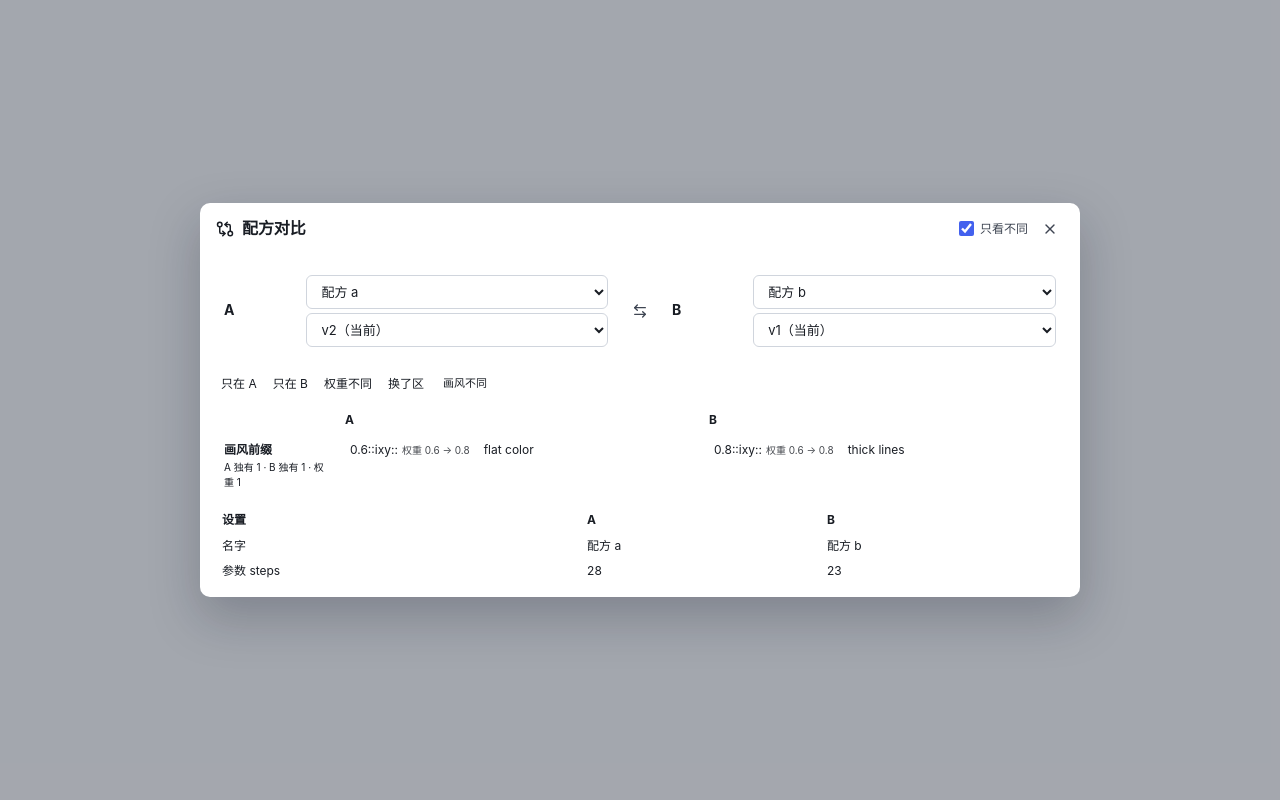
RecipeCompareDialog › compares two recipes tag by tag, swaps sides and picks older versions
Check: the text titled "只在 A" reads "flat color", box [484,442,534,457]
Check: the text titled "只在 B" reads "thick lines", box [848,442,905,457]
Step 1. Click the button named "左右互换" → click(640, 310), box [626,296,654,324]
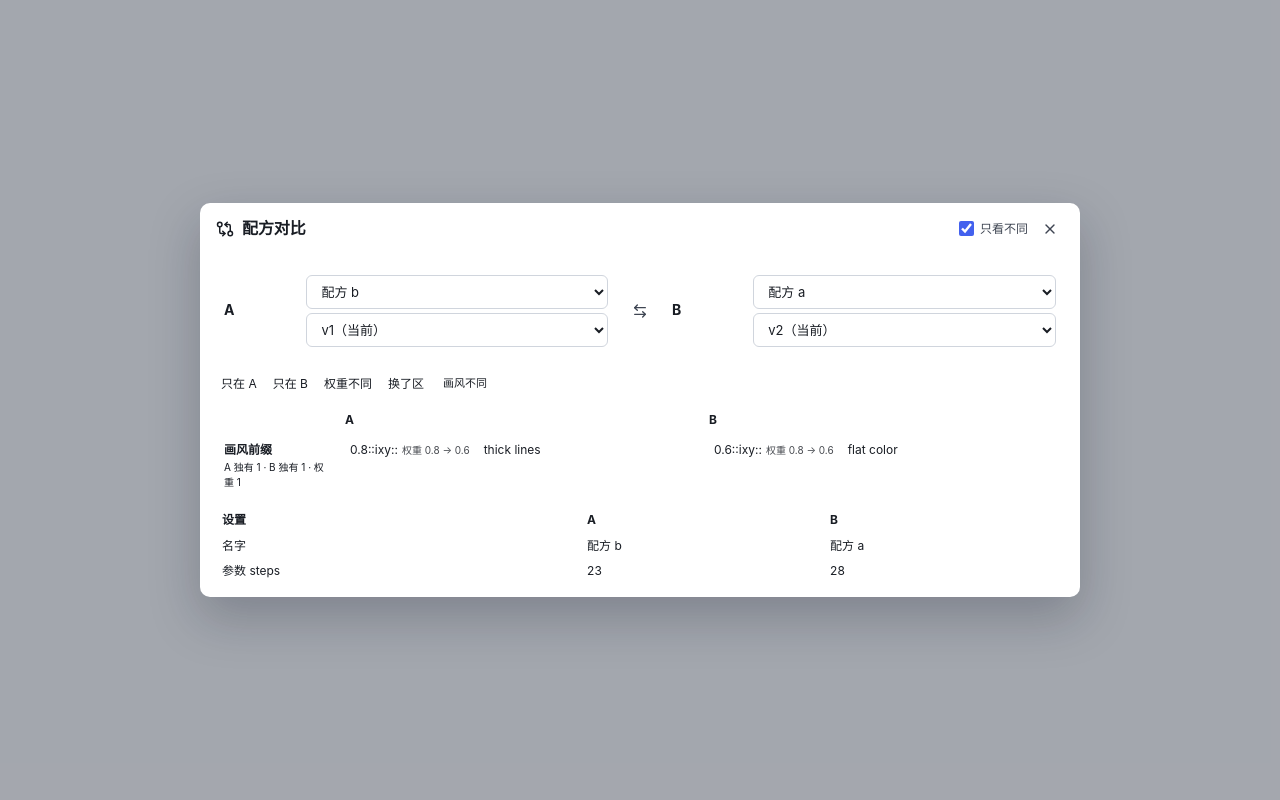
Check: the text titled "只在 A" reads "thick lines", box [484,442,541,457]
B 换成配方 a 的 v1：和当前的 a 比，只差 flat color。
Step 2. Click the button named "左右互换" → click(640, 310), box [626,296,654,324]
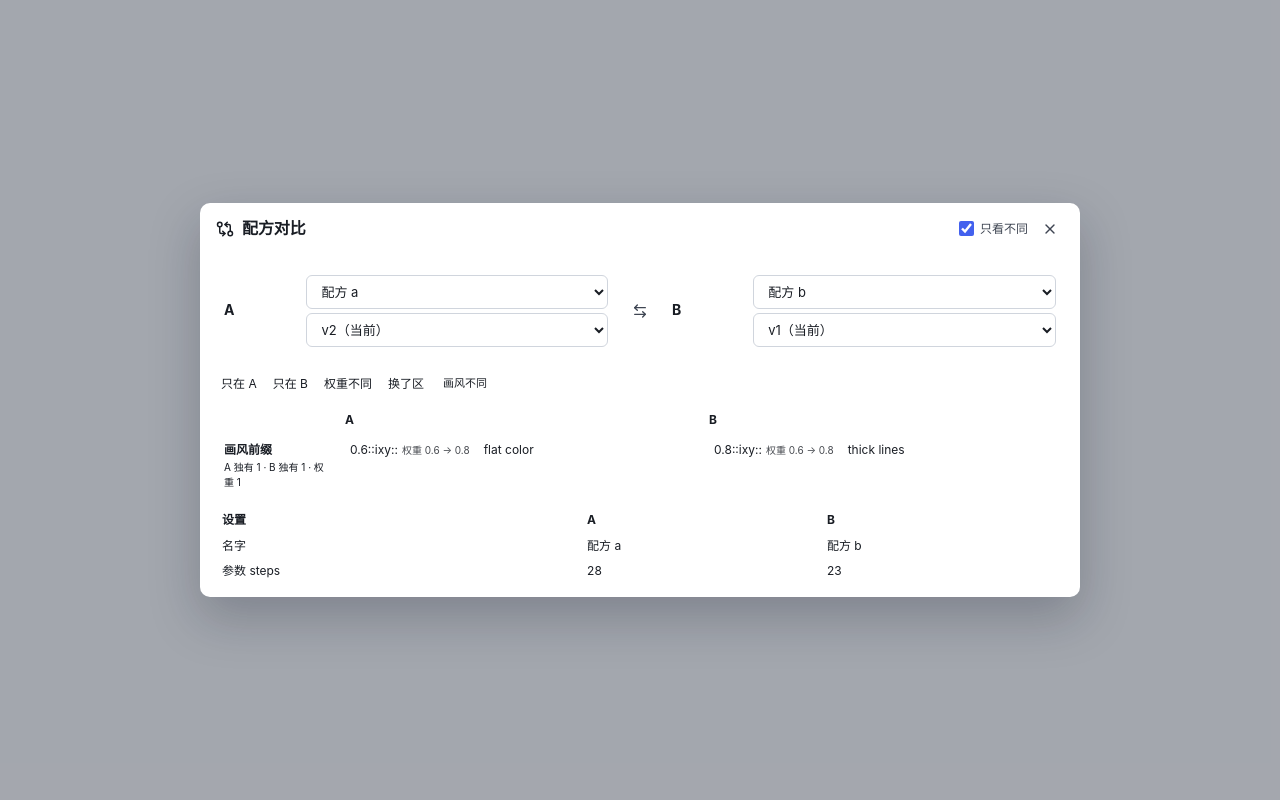
Step 3. Select "配方 a" in the dropdown named "配方 B" → (905, 292), box [753,274,1056,308]
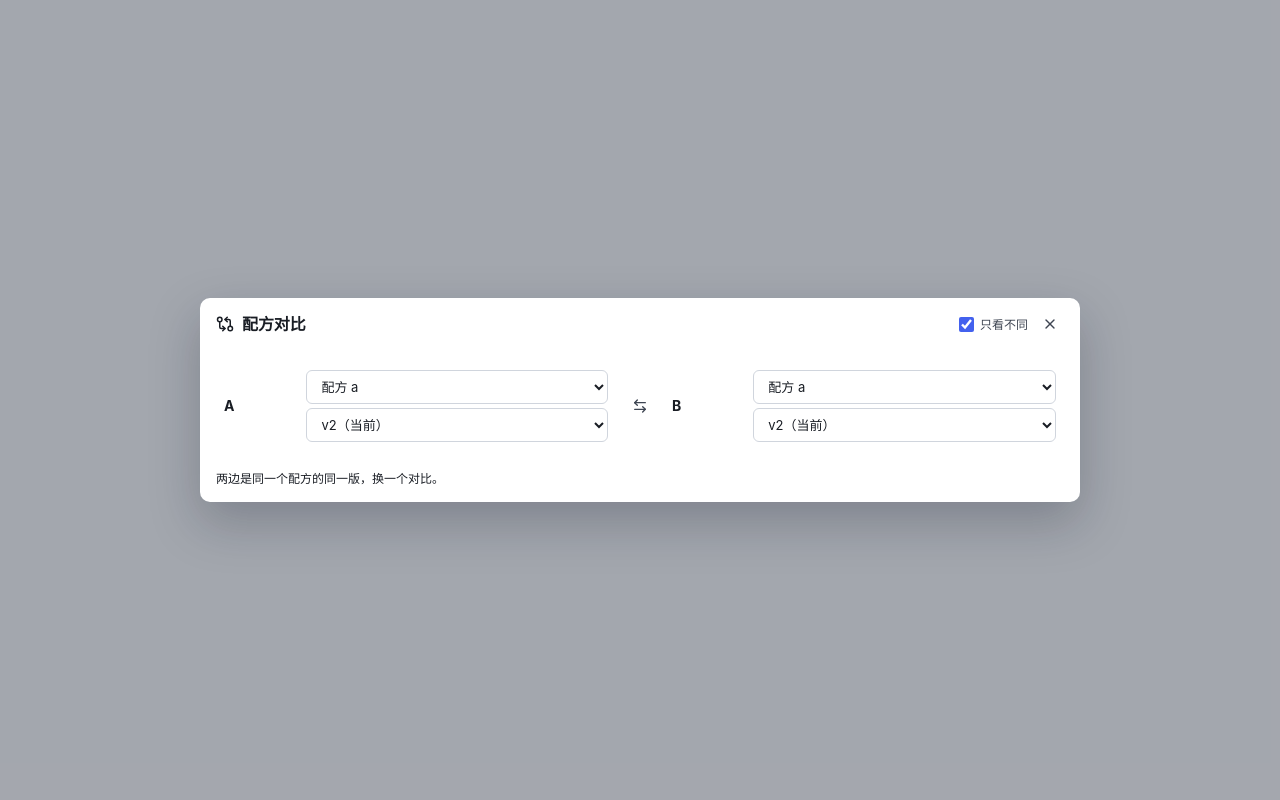
Step 4. Select "v1 · 01-01 00:00" in the dropdown named "配方 B 的版本" → (905, 425), box [753,408,1056,442]
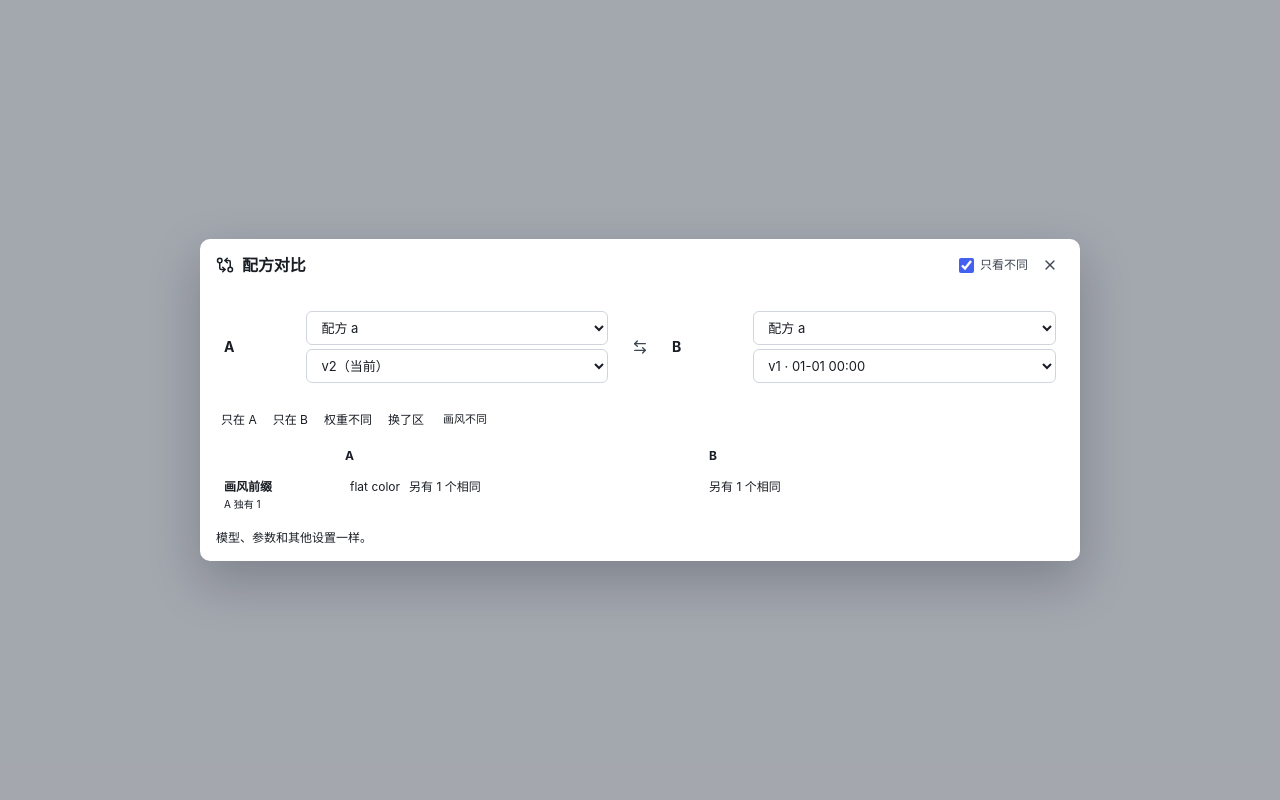
Check: the text titled "只在 A" reads "flat color", box [350,478,400,494]
Check: the text "另有 1 个相同" is shown 2 times, box [409,478,481,496]; [709,478,781,495]
